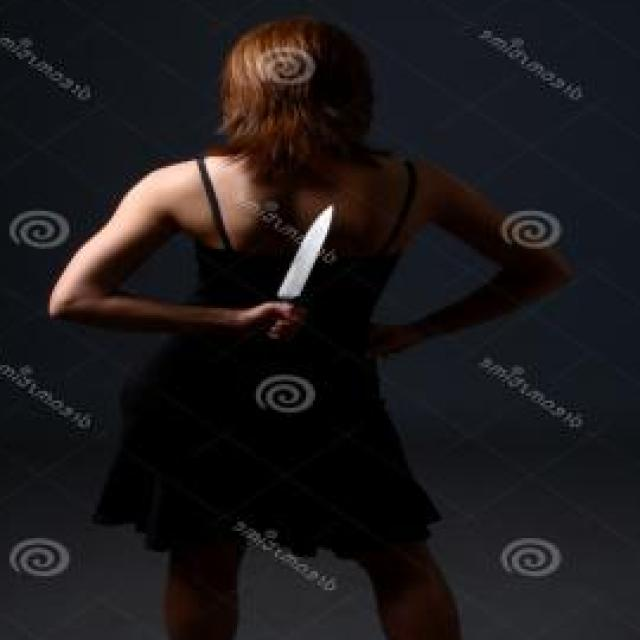knife: (261, 197, 346, 346)
